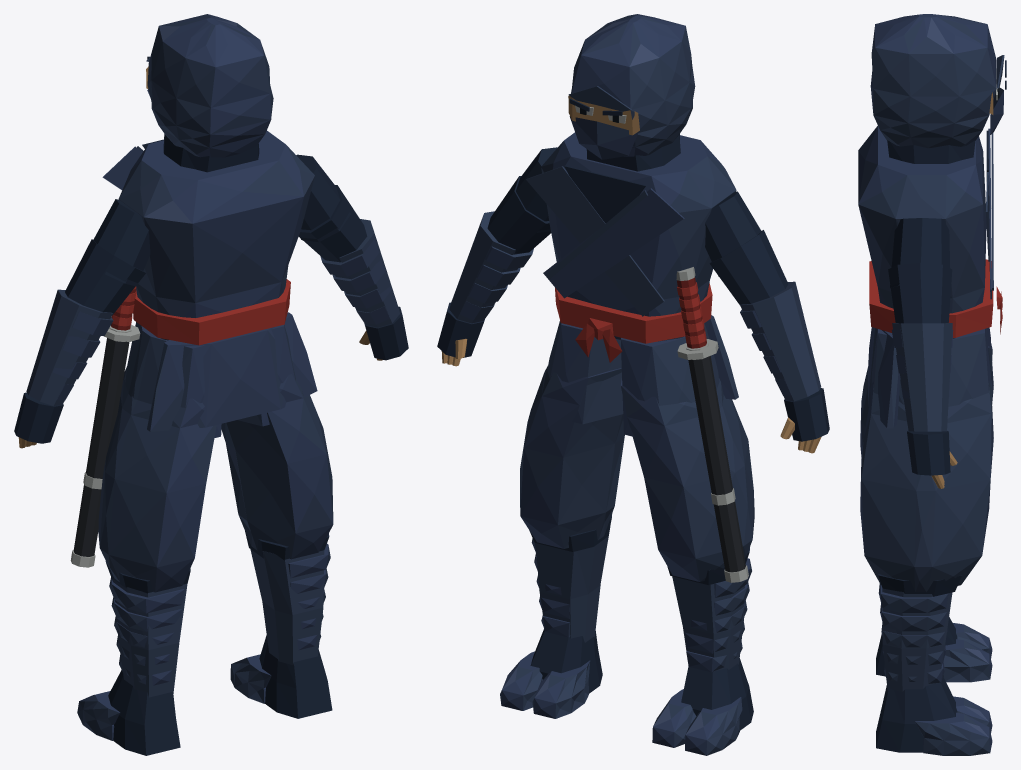
3 renders of one model, left to right at view 1: azimuth 30°, elevation 25°; view 2: azimuth 150°, elevation 25°; view 3: azimuth 270°, elevation 25°, orthographic.
Size of the model in its own units: 1 by 1.7 by 0.333.
